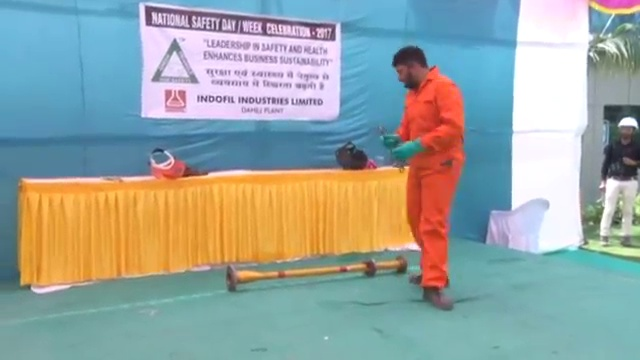helmet: (615, 116, 640, 130)
helmet_off: (388, 45, 430, 90)
helmet_on: (613, 114, 640, 146)
person: (383, 44, 466, 309), (599, 115, 640, 250)
